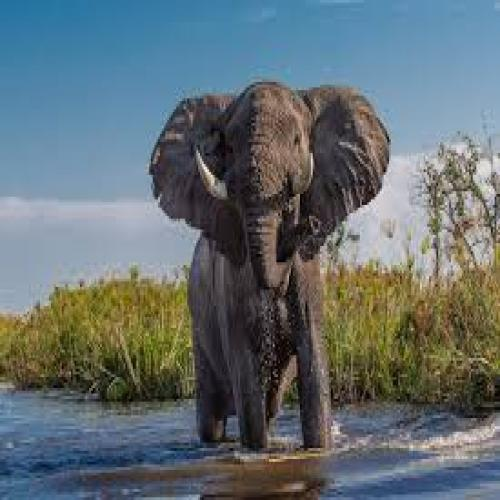asian_elephant-endangered: (151, 81, 390, 443)
